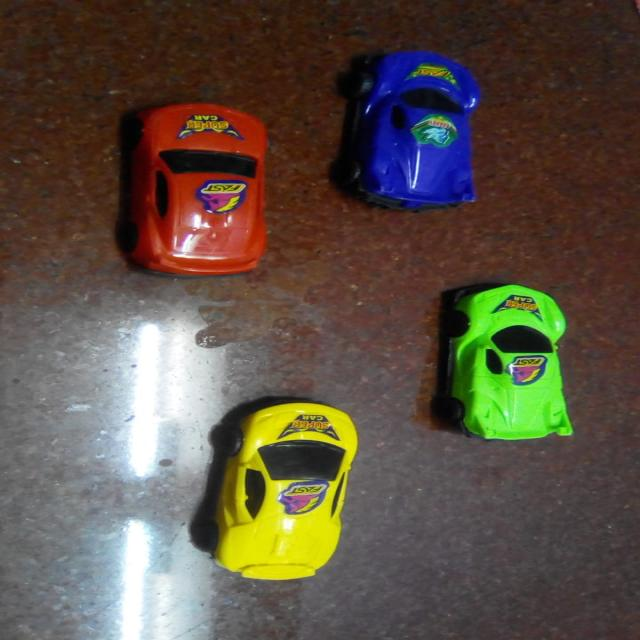Car: (188, 395, 359, 580), (440, 282, 574, 440)
